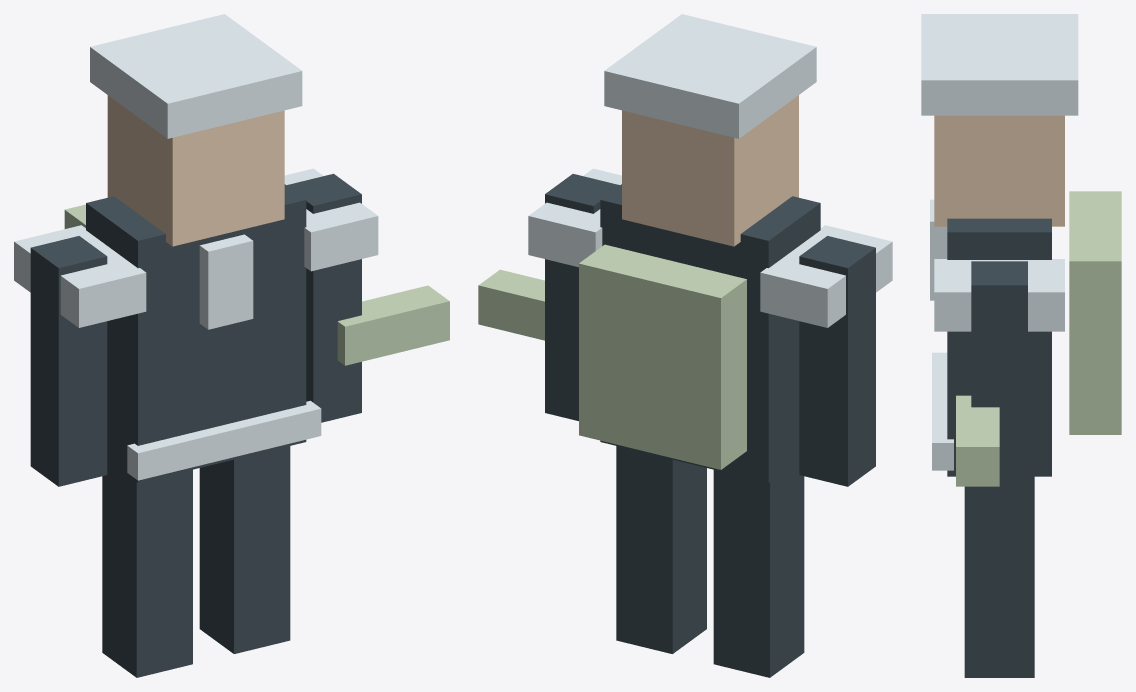
Rendered from 01_rook_rootborne_tactician_near_freight.glb.
3 views of the same model, side by side, from view 1: azimuth 30°, elevation 25°; view 2: azimuth 150°, elevation 25°; view 3: azimuth 270°, elevation 25° (orthographic).
Visible parts, largest first — view 1: Rook Rootborne, Tactician near Freight; view 2: Rook Rootborne, Tactician near Freight; view 3: Rook Rootborne, Tactician near Freight.
Boxes of the visible parts, <box> form: Rook Rootborne, Tactician near Freight: <box>14,14,449,677</box>; Rook Rootborne, Tactician near Freight: <box>478,14,892,677</box>; Rook Rootborne, Tactician near Freight: <box>921,14,1121,677</box>.
Size of the model in its own units: 1.09 by 1.6 by 0.4893.
